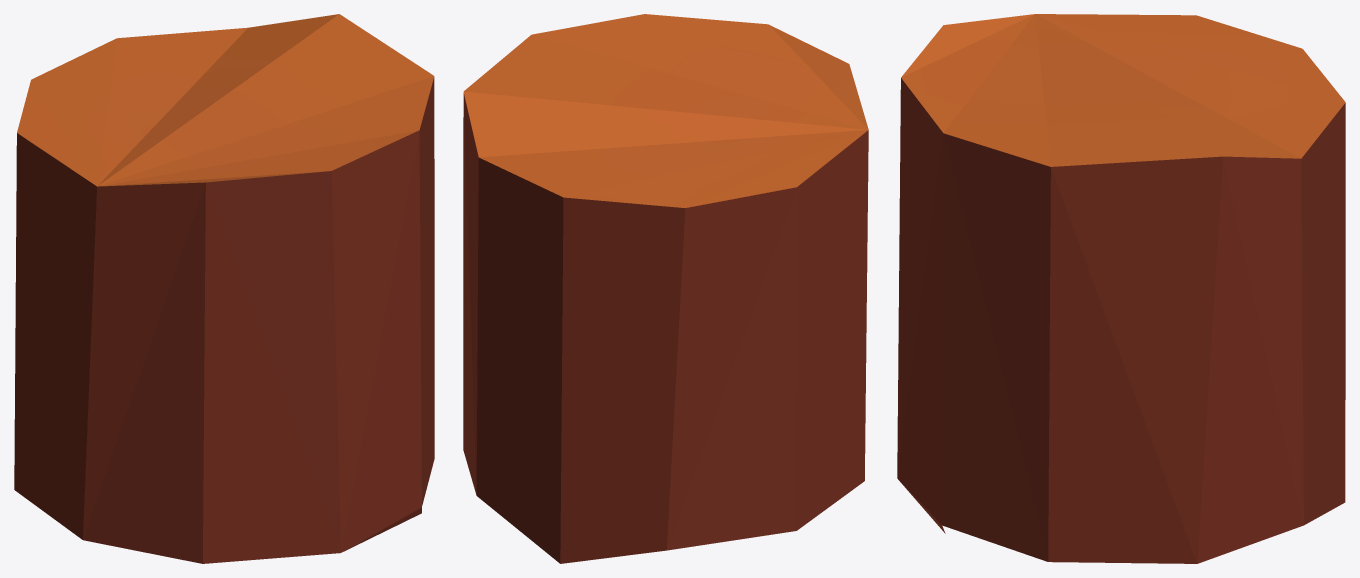
Rendered from Stump.fbx.
3 views of the same model, side by side, from view 1: azimuth 30°, elevation 25°; view 2: azimuth 150°, elevation 25°; view 3: azimuth 270°, elevation 25° (orthographic). The views are drawn at different scales.
Visible parts, largest first — view 1: Stump; view 2: Stump; view 3: Stump.
Part boxes in pixels (bbox=[...]): Stump: bbox=[14, 14, 434, 563]; Stump: bbox=[463, 14, 868, 563]; Stump: bbox=[897, 14, 1345, 563].
Bounding box in the file's own units: 0.4025 × 0.4513 × 0.4296.
